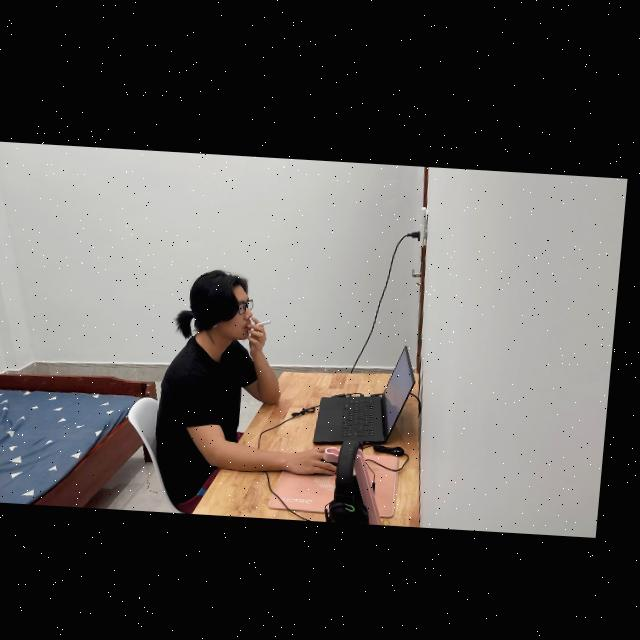cigarette: (261, 315, 278, 322)
